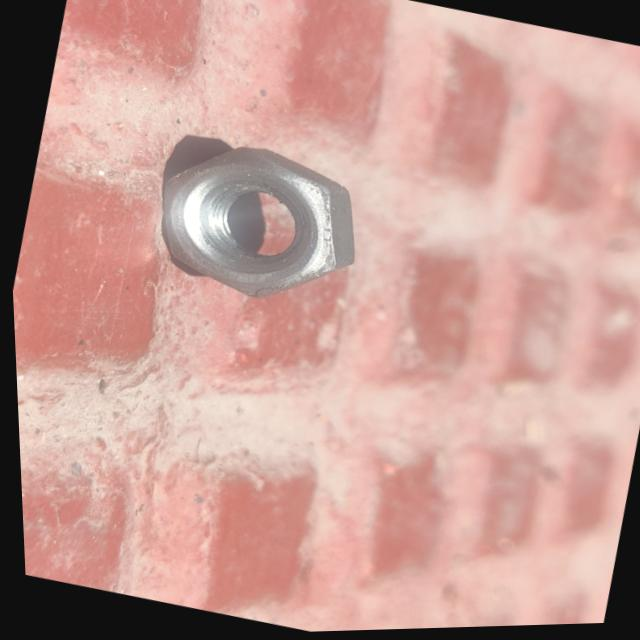disinfected nut: (158, 148, 352, 299)
